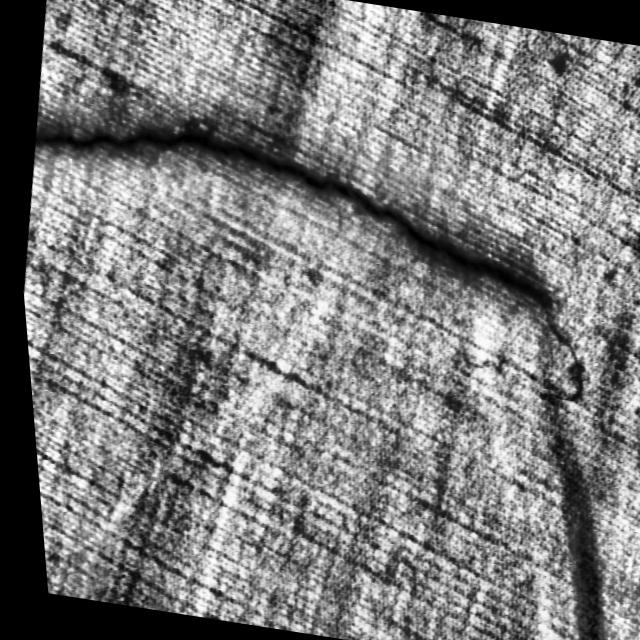Stitch: (14, 97, 575, 326)
